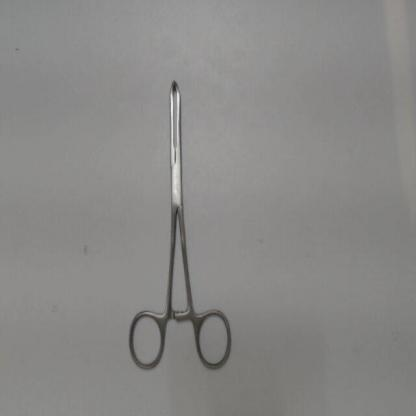Allis Tissue Forceps: (122, 66, 241, 373)
